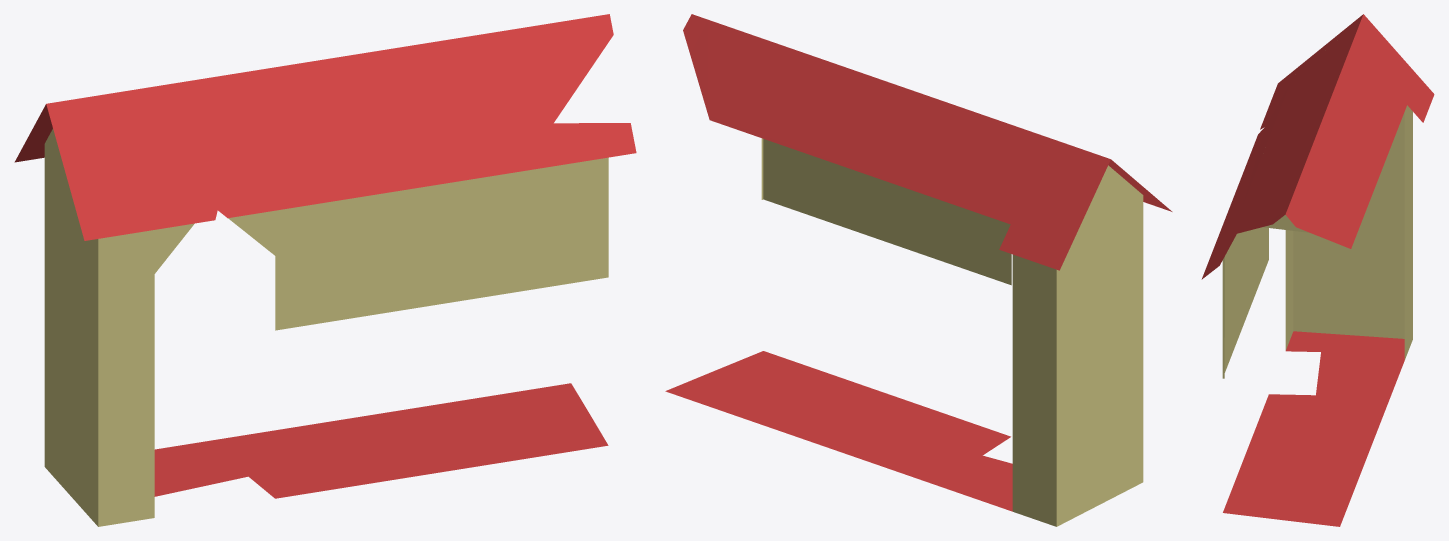
3 views of the same model, side by side, from view 1: azimuth 30°, elevation 25°; view 2: azimuth 150°, elevation 25°; view 3: azimuth 270°, elevation 25° (orthographic). The views are drawn at different scales.
Size of the model in its own units: 19.62 by 9.3 by 13.82.
